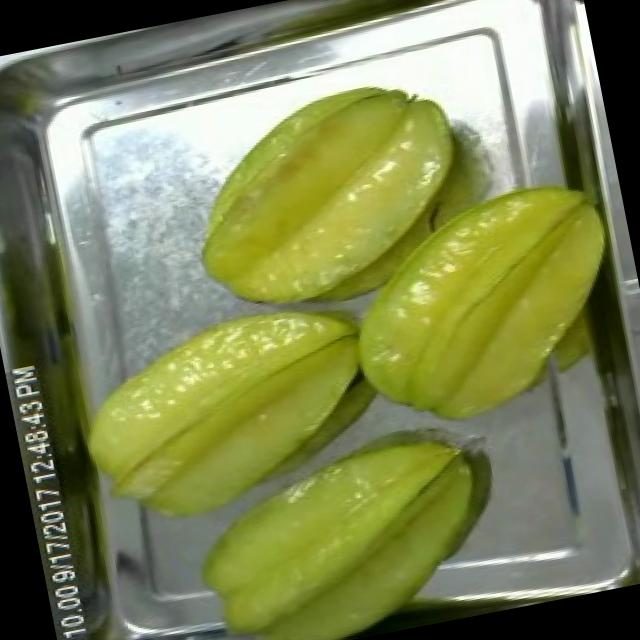fruit: (315, 161, 640, 454), (57, 281, 404, 555), (165, 62, 494, 338), (164, 406, 525, 640)
